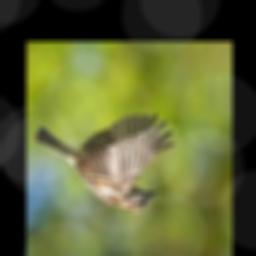Sparrow: (35, 114, 175, 212)
